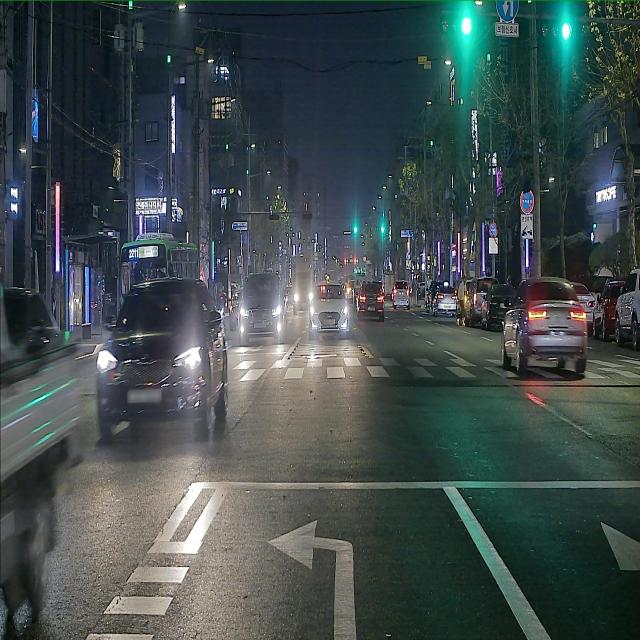Green Light: (562, 21, 572, 42), (461, 16, 472, 34)
